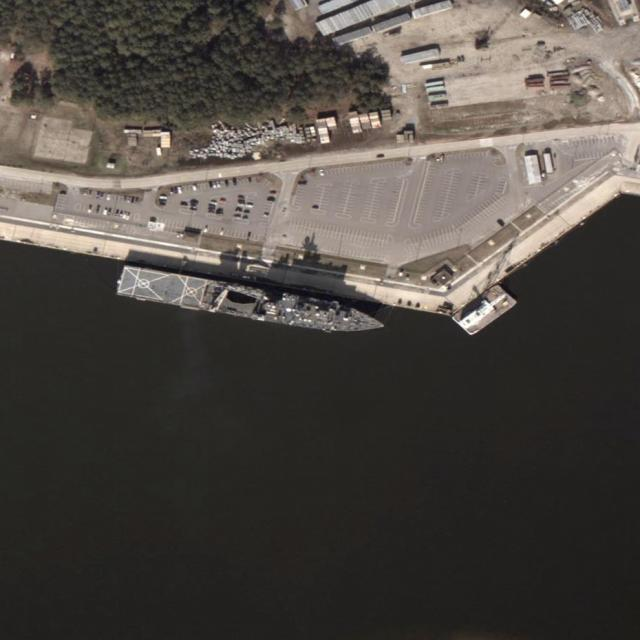Landing: (114, 262, 387, 342)
